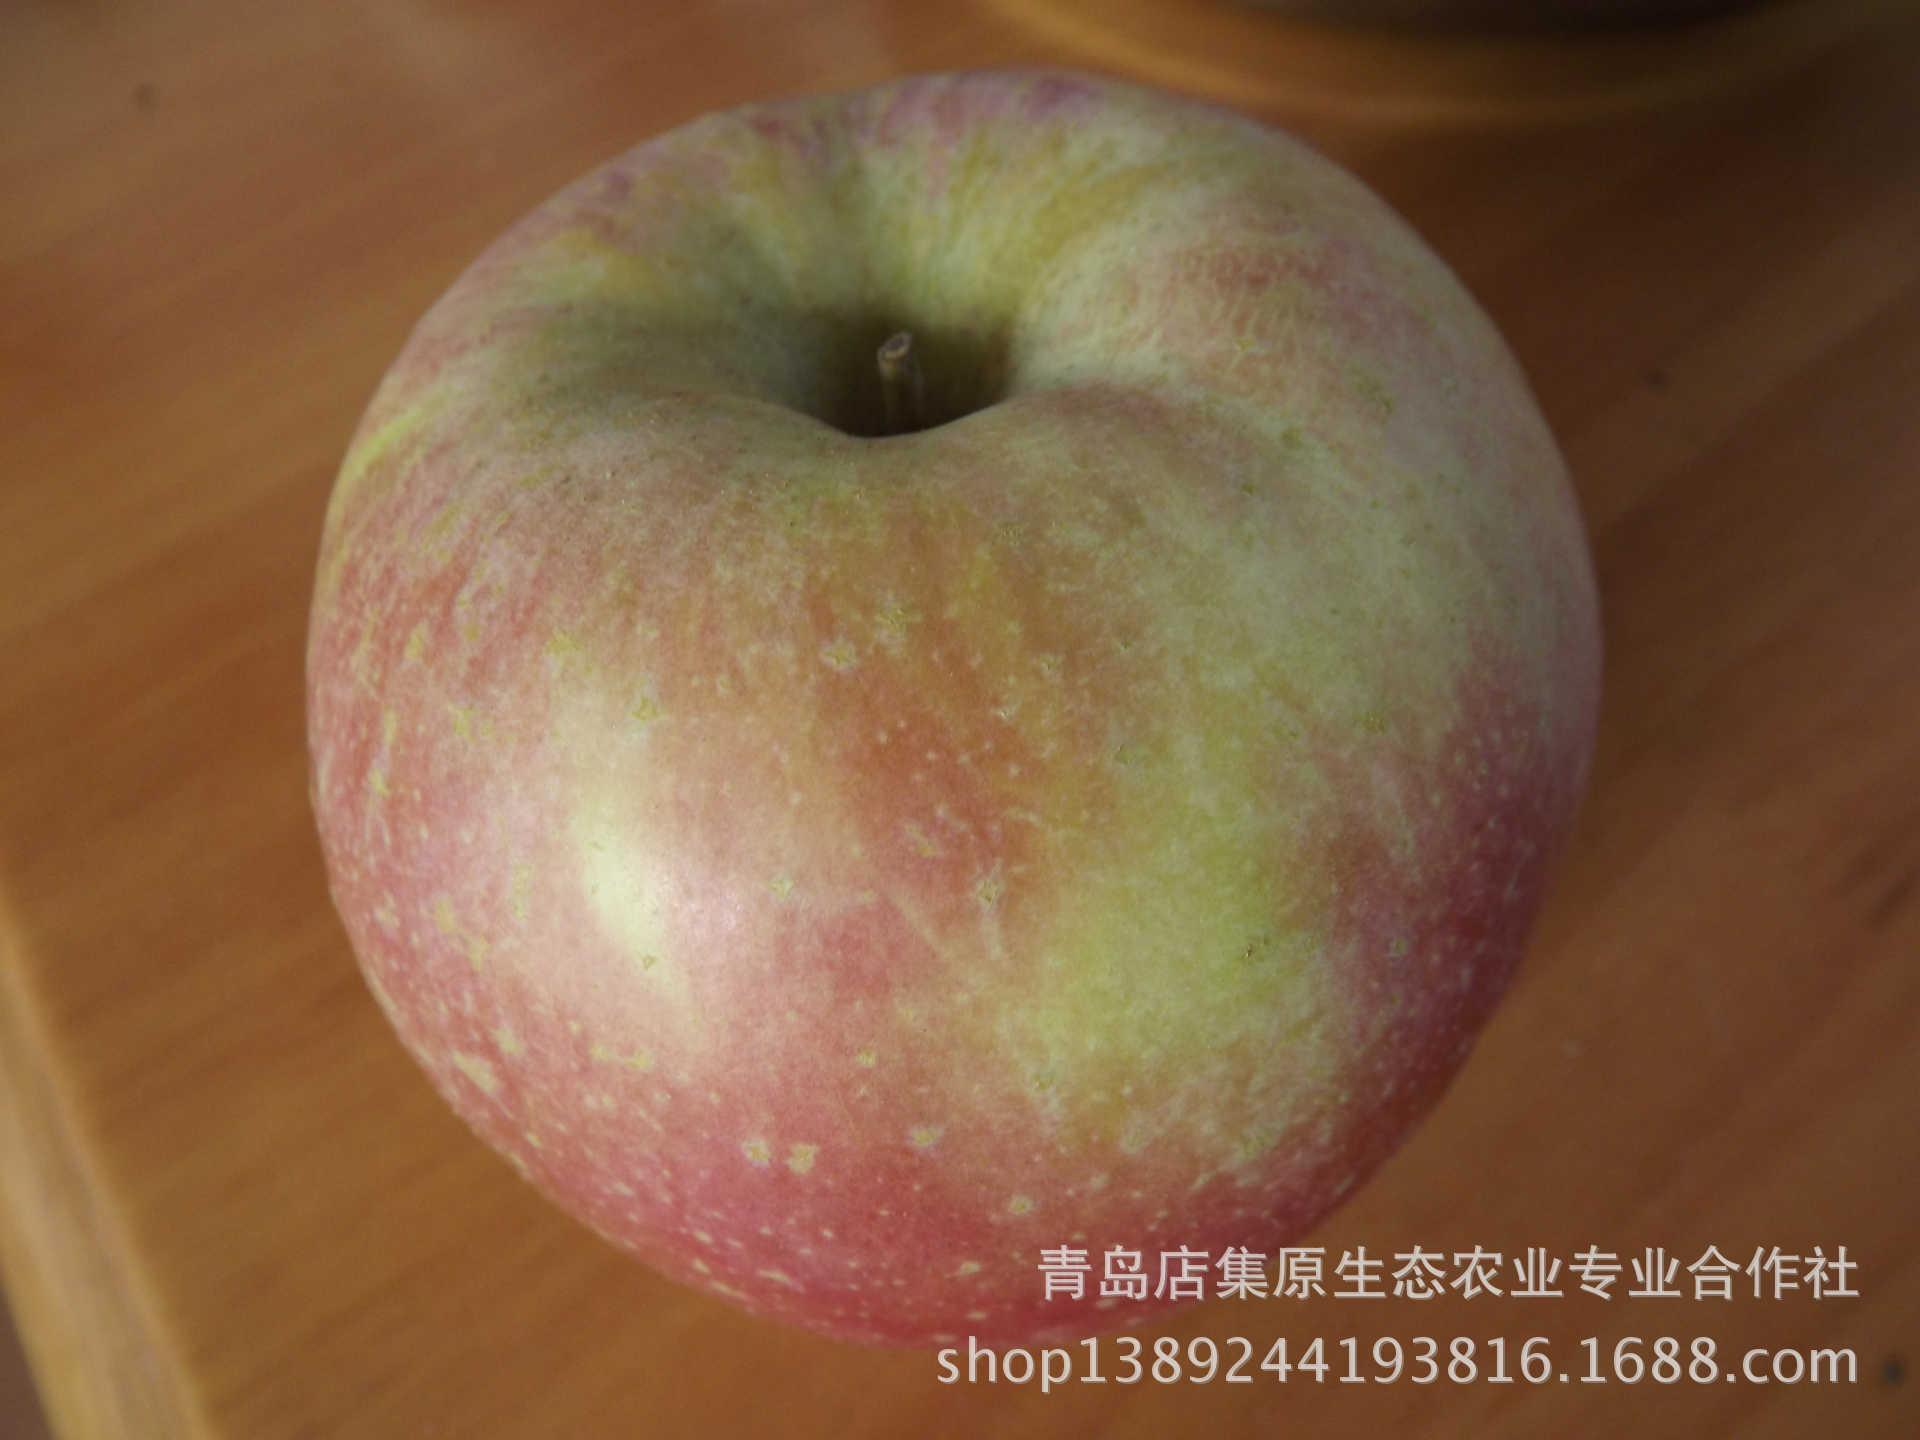apple: (290, 57, 1610, 1325)
